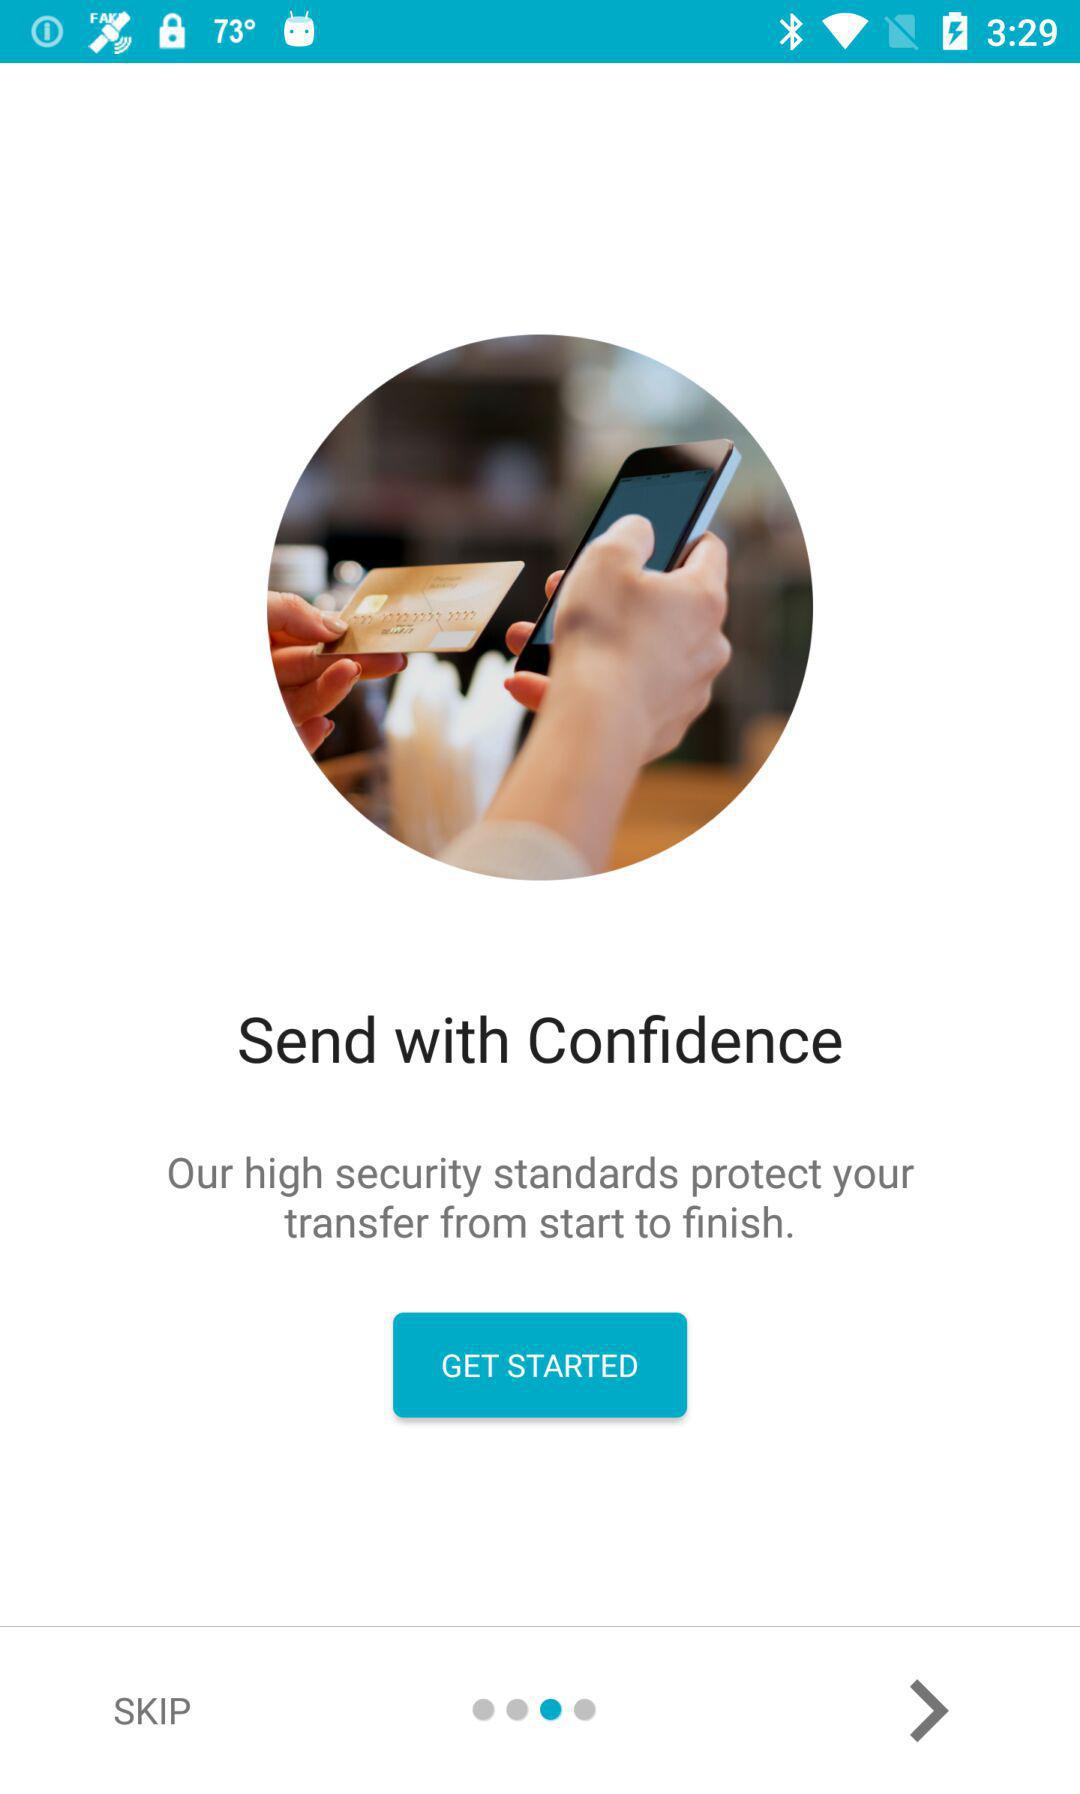Icon: (910, 1677, 951, 1744)
Image: (266, 332, 815, 883)
PageIndicator: (471, 1697, 598, 1722)
Text: (168, 1155, 915, 1240), (240, 1014, 843, 1067), (115, 1697, 192, 1726)
TextButton: (393, 1312, 688, 1419)
UpperTaskBar: (1, 1, 1080, 64)
